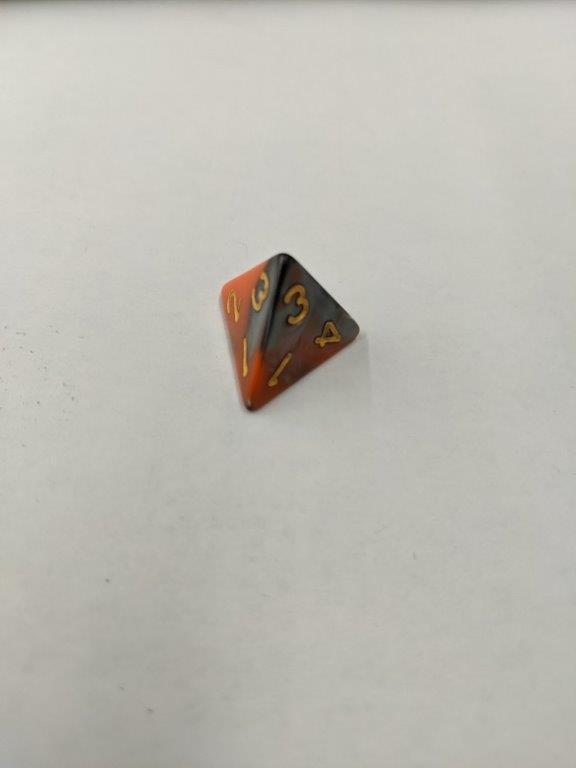d4-3: (216, 252, 361, 417)
